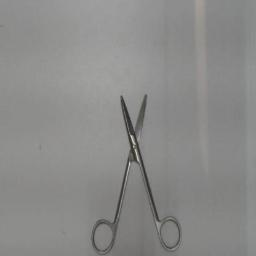Curved Mayo Scissors: (88, 91, 184, 255)
